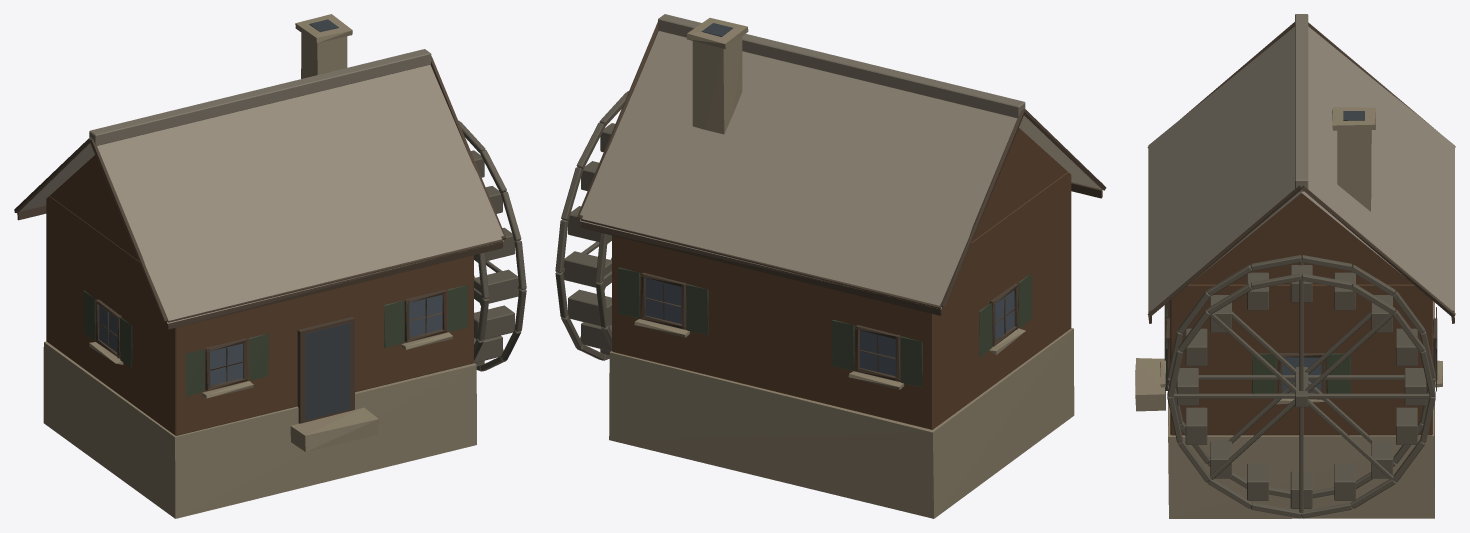
File: watermill-lod1.glb
3 renders of one model, left to right at view 1: azimuth 30°, elevation 25°; view 2: azimuth 150°, elevation 25°; view 3: azimuth 270°, elevation 25°, orthographic. The views are drawn at different scales.
Size of the model in its own units: 10.17 by 9.4 by 7.32.
